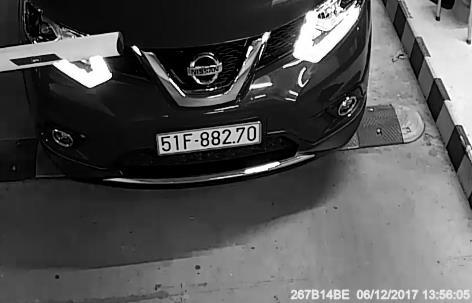License-plate: (152, 120, 272, 158)
